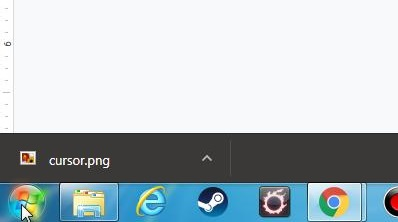cursor: (17, 202, 37, 222)
